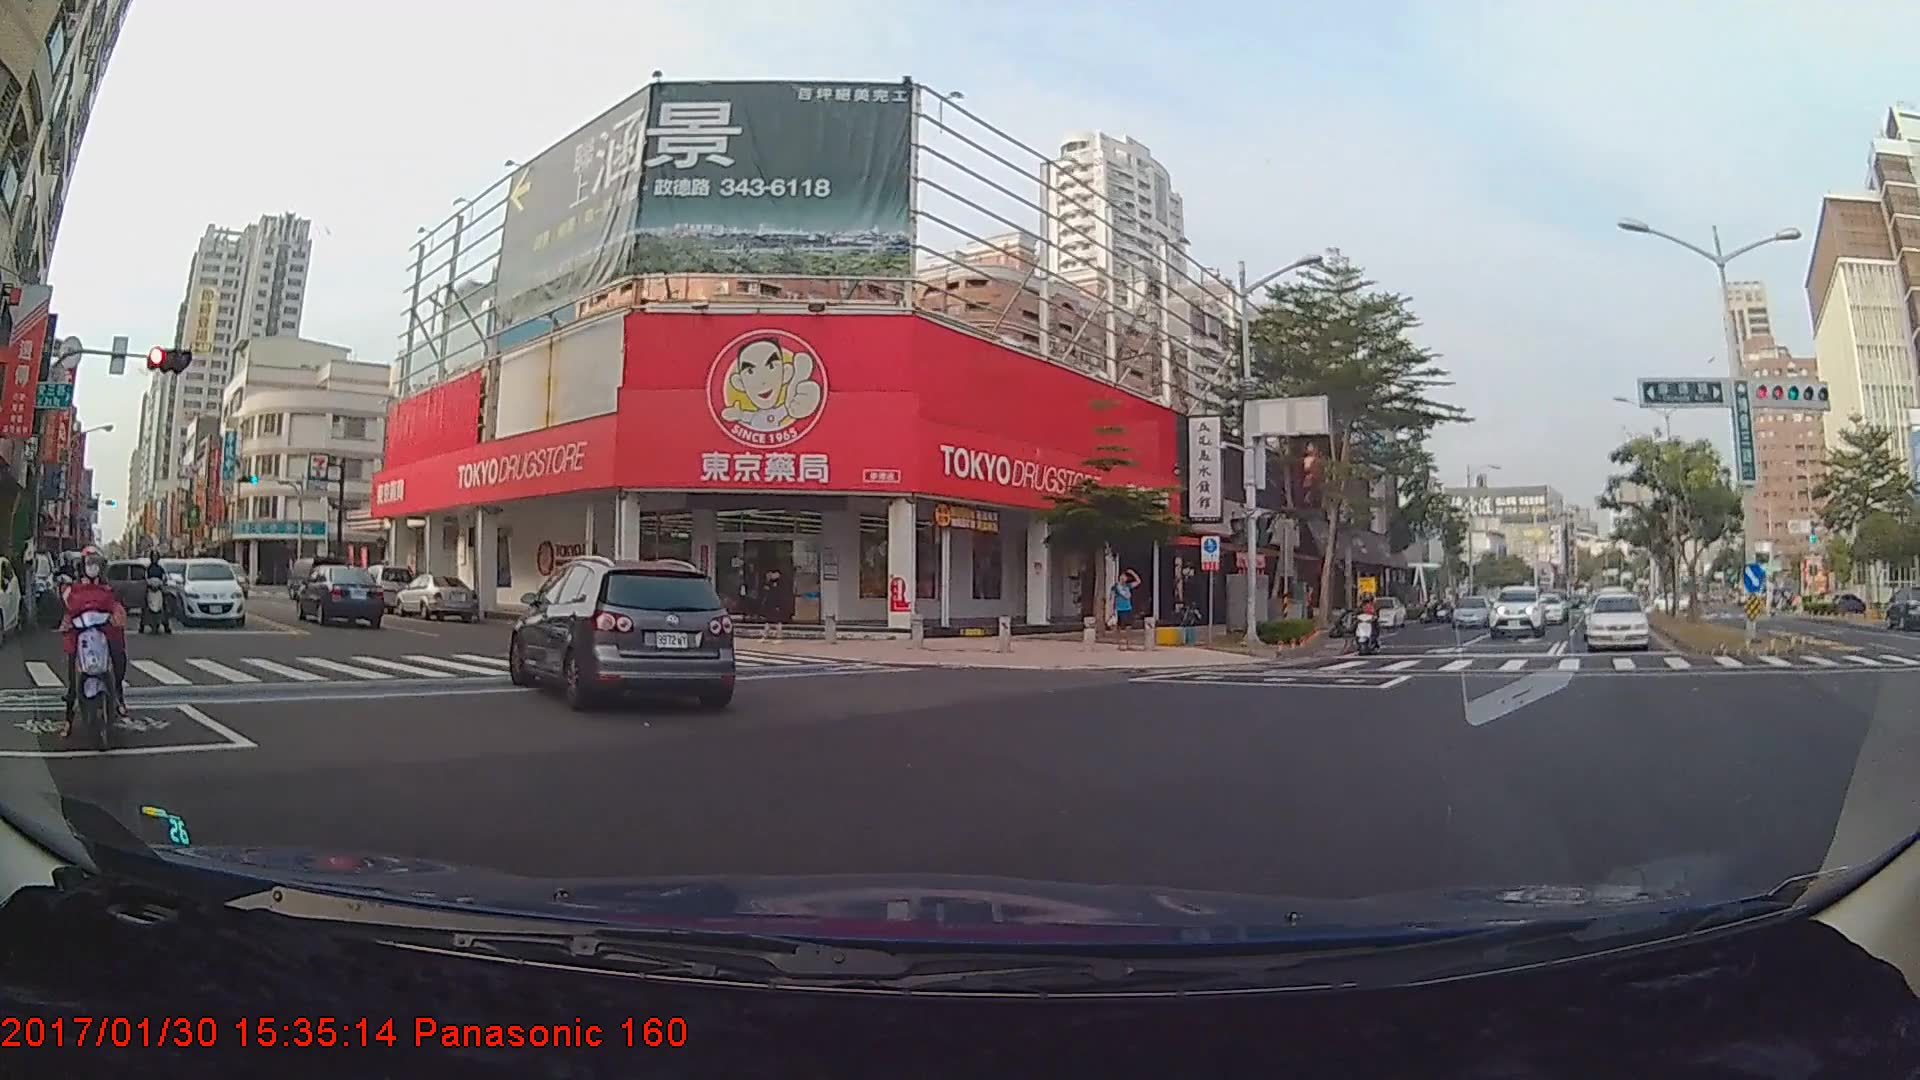pedestrian: (759, 564, 797, 653), (1108, 568, 1143, 650)
rider: (52, 543, 136, 765), (138, 551, 179, 640), (50, 544, 85, 626), (1350, 588, 1388, 654)
vehicle: (510, 555, 734, 713), (297, 562, 383, 628), (94, 558, 185, 613), (172, 556, 243, 626), (392, 570, 478, 619), (1582, 592, 1650, 651), (1487, 585, 1546, 637), (1879, 583, 1920, 630), (1357, 595, 1404, 629), (1451, 595, 1495, 628), (1527, 593, 1563, 624)
